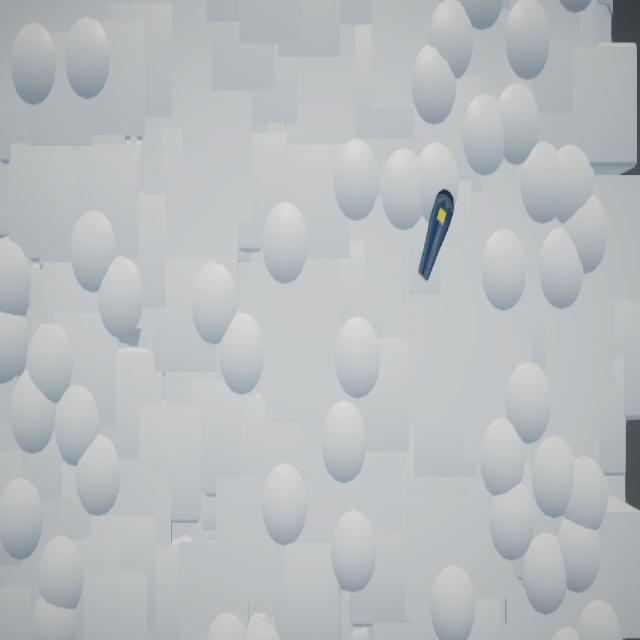handle_knife: (419, 190, 455, 283)
